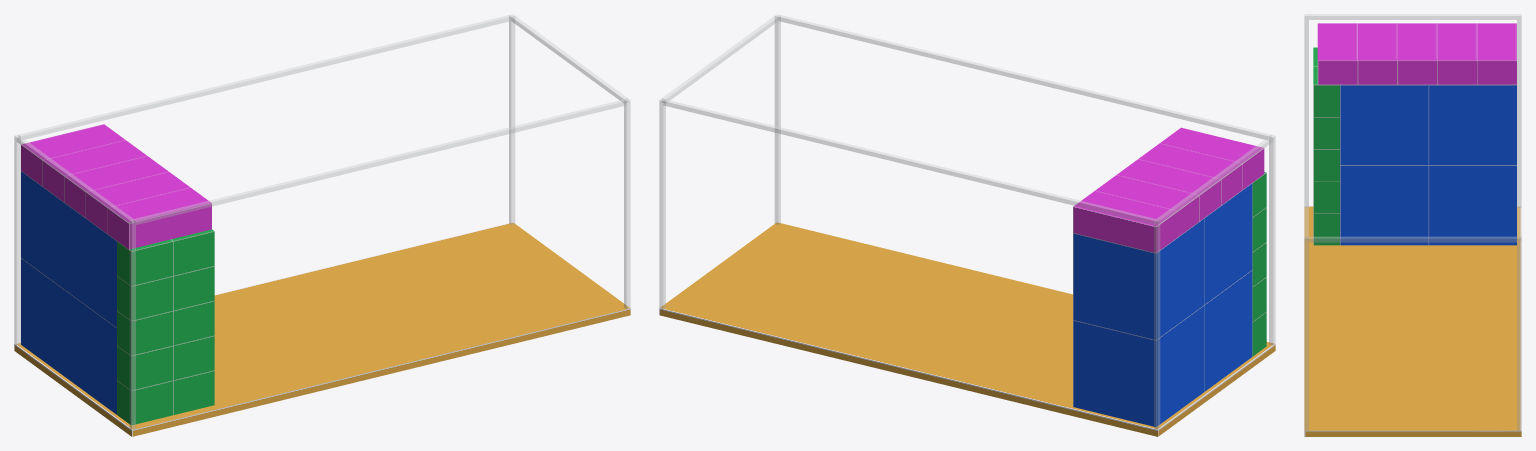
The model's file is container.gltf.
3 renders of one model, left to right at view 1: azimuth 30°, elevation 25°; view 2: azimuth 150°, elevation 25°; view 3: azimuth 270°, elevation 25°, orthographic. The views are drawn at different scales.
Parts seen in each view (by area): view 1: object 1, Sacks 2040, Big bags 0001, Big bags 0010, Big bags 0011, Big bags 0000, object 7, object 6, Sacks 2030, Sacks 2010, Sacks 2000, Sacks 2020 (+16 smaller); view 2: object 1, Big bags 0000, Big bags 0001, Sacks 2000, Big bags 0011, Big bags 0010, object 6, object 7, Sacks 2040, Sacks 2010, Sacks 2020, Sacks 2030 (+6 smaller); view 3: object 1, Big bags 0010, Big bags 0011, Big bags 0000, Big bags 0001, Sacks 2010, Sacks 2020, Sacks 2030, Sacks 2040, Sacks 2000, object 8, object 9 (+11 smaller).
Boxes of the visible parts, bbox=[...] form: object 1: bbox=[14, 222, 630, 436]; Sacks 2040: bbox=[107, 187, 211, 249]; Big bags 0001: bbox=[21, 171, 68, 292]; Big bags 0010: bbox=[69, 293, 116, 414]; Big bags 0011: bbox=[69, 206, 116, 327]; Big bags 0000: bbox=[21, 258, 68, 379]; object 7: bbox=[134, 99, 626, 224]; object 6: bbox=[18, 15, 510, 140]; Sacks 2030: bbox=[85, 171, 189, 233]; Sacks 2010: bbox=[42, 140, 146, 201]; Sacks 2000: bbox=[21, 124, 124, 185]; Sacks 2020: bbox=[64, 156, 168, 217]; object 1: bbox=[659, 222, 1275, 436]; Big bags 0000: bbox=[1073, 305, 1204, 426]; Big bags 0001: bbox=[1073, 218, 1204, 339]; Sacks 2000: bbox=[1073, 191, 1177, 252]; Big bags 0011: bbox=[1204, 183, 1252, 304]; Big bags 0010: bbox=[1204, 270, 1252, 391]; object 6: bbox=[663, 99, 1155, 224]; object 7: bbox=[779, 15, 1271, 140]; Sacks 2040: bbox=[1160, 127, 1264, 189]; Sacks 2010: bbox=[1095, 175, 1199, 236]; Sacks 2020: bbox=[1117, 159, 1220, 221]; Sacks 2030: bbox=[1138, 143, 1242, 205]; object 1: bbox=[1304, 206, 1521, 436]; Big bags 0010: bbox=[1340, 165, 1428, 245]; Big bags 0011: bbox=[1340, 84, 1428, 164]; Big bags 0000: bbox=[1428, 165, 1516, 245]; Big bags 0001: bbox=[1428, 84, 1516, 164]; Sacks 2010: bbox=[1437, 23, 1477, 84]; Sacks 2020: bbox=[1397, 23, 1437, 84]; Sacks 2030: bbox=[1357, 23, 1397, 84]; Sacks 2040: bbox=[1317, 23, 1357, 84]; Sacks 2000: bbox=[1477, 23, 1516, 84]; object 8: bbox=[1309, 14, 1516, 19]; object 9: bbox=[1309, 237, 1516, 242].
Size of the model in its own units: 2551 by 1052 by 1043.
Materials: 32 (24 with a texture image).
